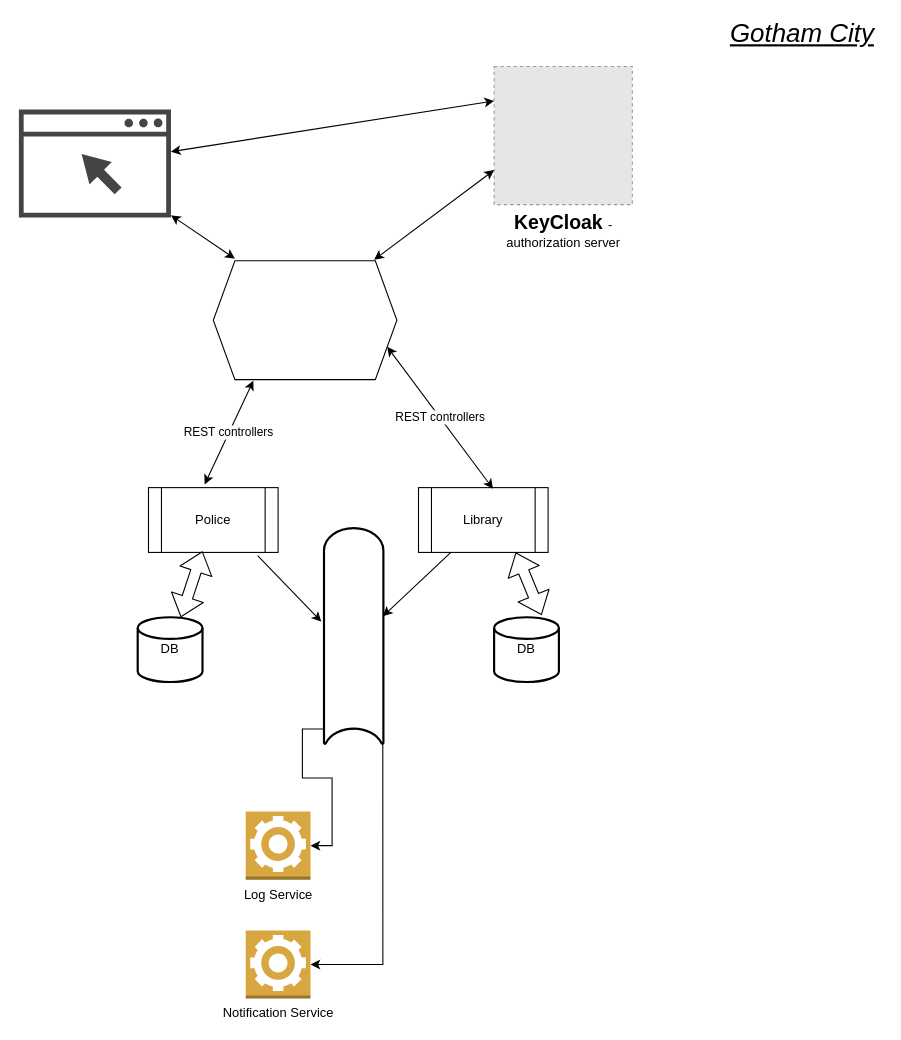
This 901x1040 diagram has some shape labels left out. Grey dashed boxes stand in for pictures. The centre of each missing label's shape, as x and y in pixels:
Client - browser: point (94, 163)
Kafka: point (353, 635)
Tyk Gateway: point (304, 320)
